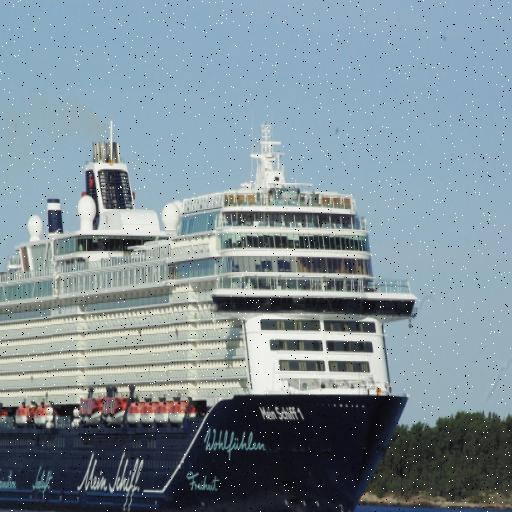cruises: (1, 119, 420, 512)
